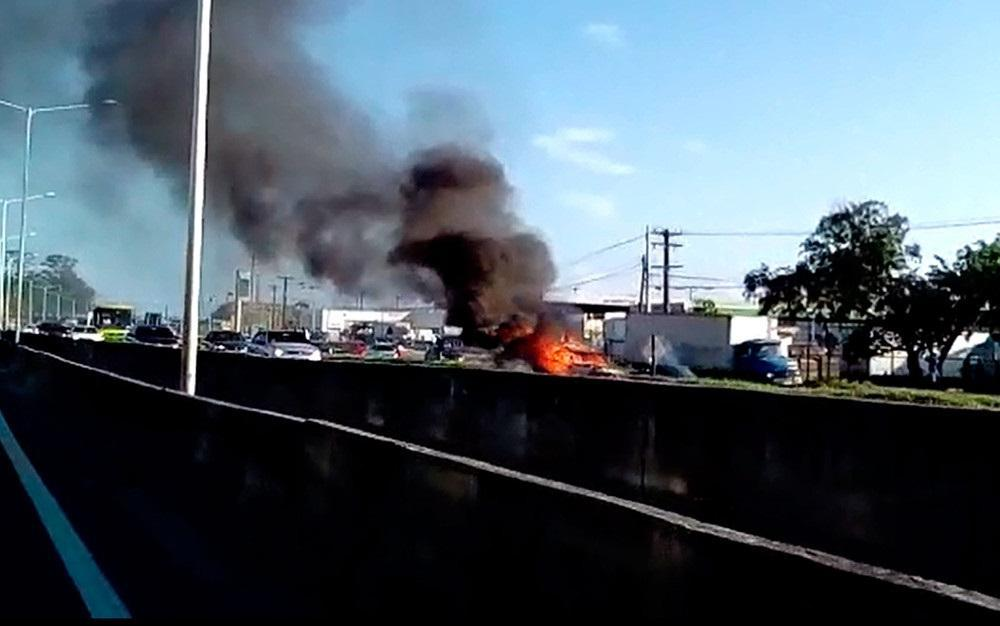Fire: (523, 326, 575, 384)
